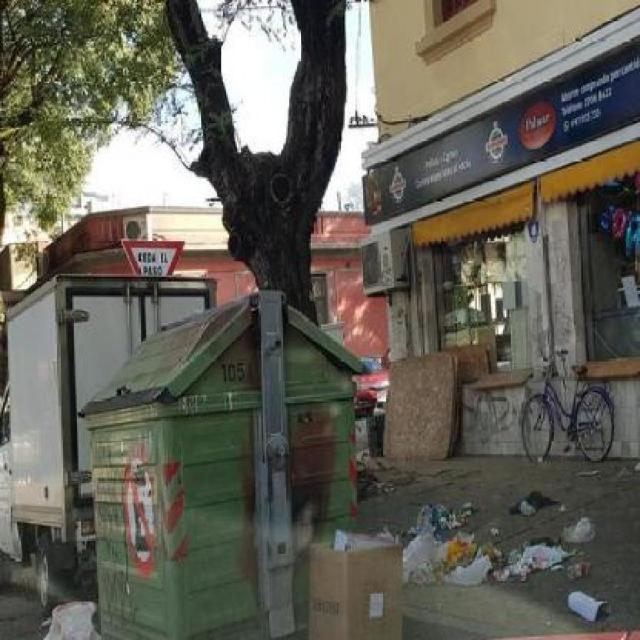garbage: (368, 451, 626, 638), (305, 523, 423, 638), (45, 583, 98, 639)
